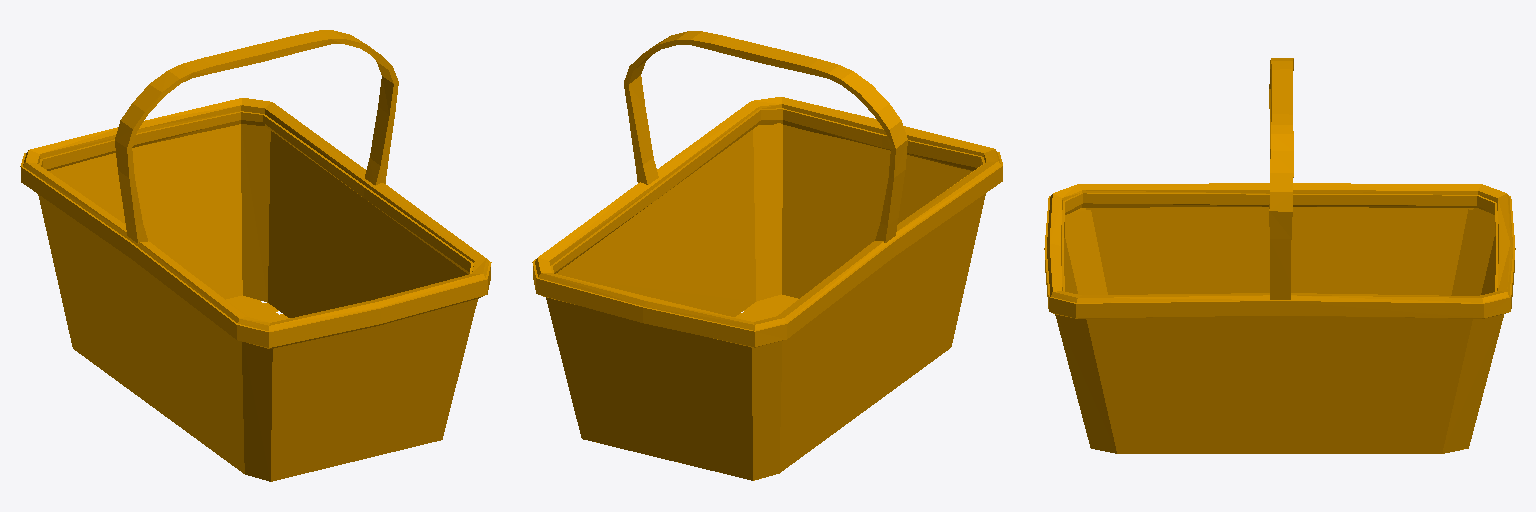
URDF robot description (mesh_object):
<robot name="mesh_object">
            <link name="base">
                <visual>
                    <geometry>
                        <mesh filename="basket_4_v000.obj" scale="1 1 1" />
                    </geometry>
                </visual>
                <collision>
                    <geometry>
                        <mesh filename="basket_4_v000.obj" scale="1 1 1" />
                    </geometry>
                </collision>
                <inertial>
                    <origin xyz="0.000000 0.000000 0.037186" rpy="0 0 0" />
                    <mass value="0.500000" />
                    <inertia ixx="0.01" iyy="0.01" izz="0.01" ixy="0" ixz="0" iyz="0" />
                </inertial>
            </link>
            </robot>

--- Render facts (derived) ---
Views: 3 orthographic renders of the robot side by side, from view 1: azimuth 30°, elevation 25°; view 2: azimuth 150°, elevation 25°; view 3: azimuth 270°, elevation 25°.
Model mesh_object with 1 links and 0 joints (none), rooted at base, posed all joints at 0.
Links seen in each view (by area): view 1: base; view 2: base; view 3: base.
Link boxes in pixels (x1,y1,x2,y2): base: [20, 30, 491, 481]; base: [532, 31, 1002, 480]; base: [1044, 58, 1515, 453].
Size in the robot's own frame: 0.063 by 0.1 by 0.0744 metres.
Meshes: 1 distinct files referenced, 1 mesh visuals loaded (1 OBJ).
